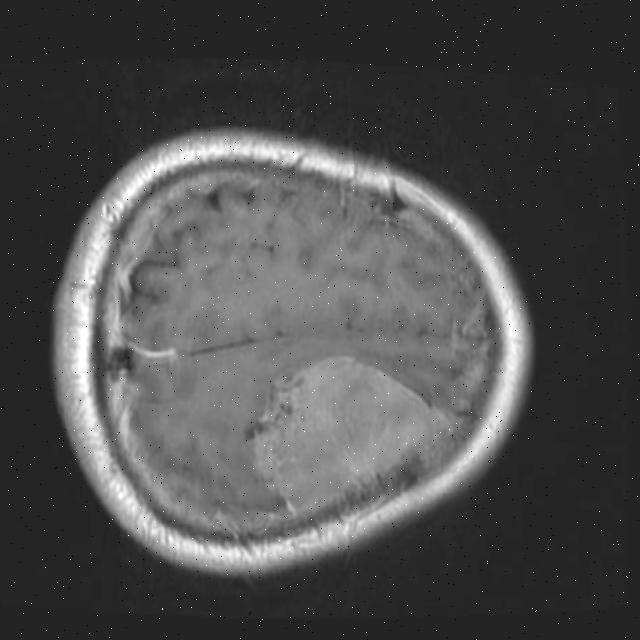Meningioma: (240, 346, 455, 520)
